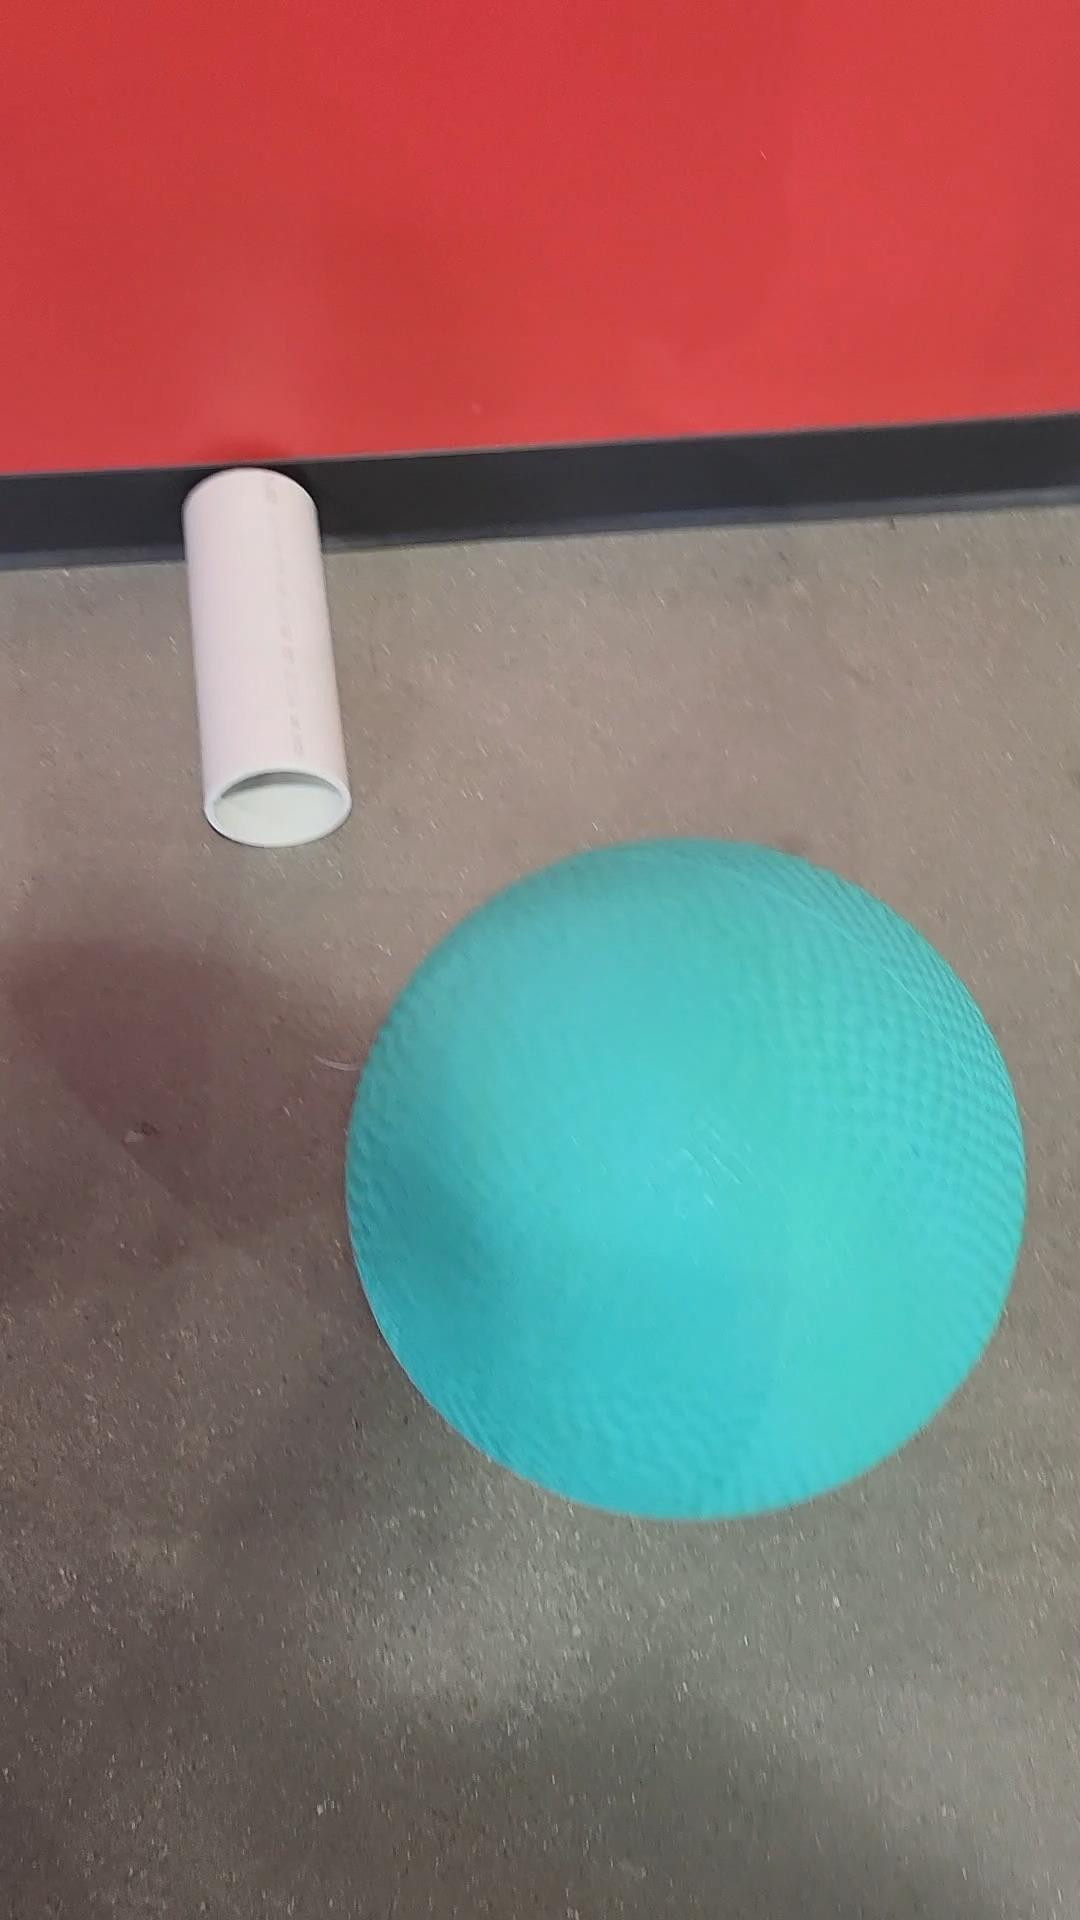algae: (361, 816, 1080, 1552)
coral: (146, 456, 406, 869)
